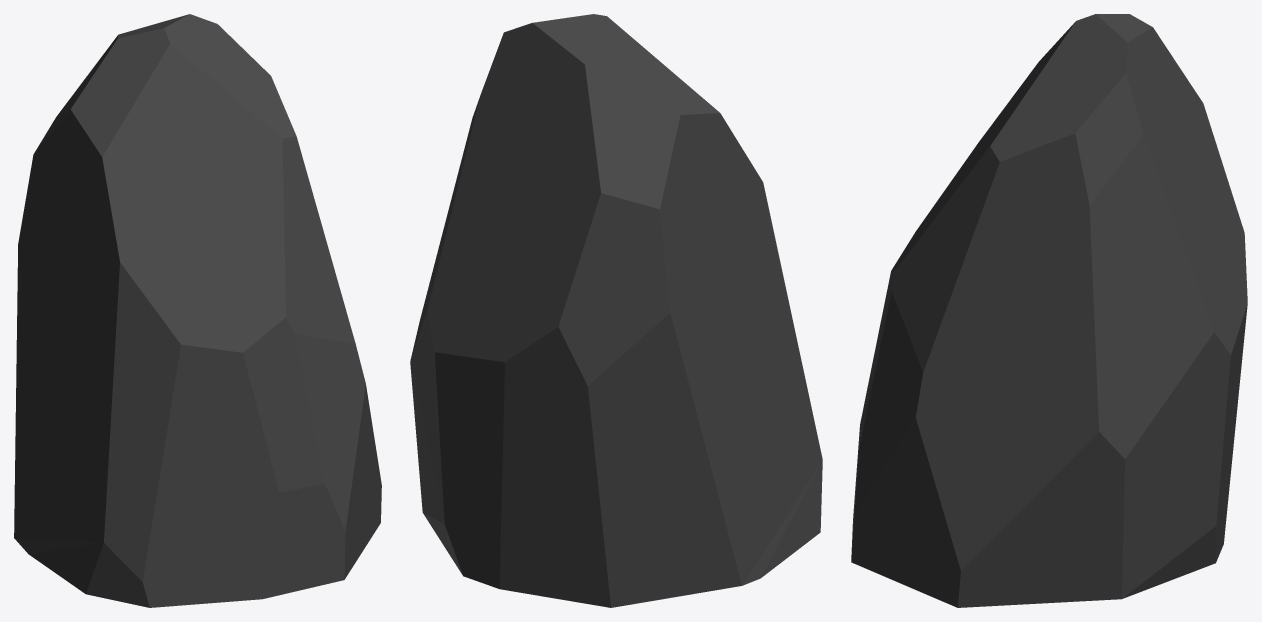
File: rock_1.FBX
3 renders of one model, left to right at view 1: azimuth 30°, elevation 25°; view 2: azimuth 150°, elevation 25°; view 3: azimuth 270°, elevation 25°, orthographic. The views are drawn at different scales.
Parts seen in each view (by area): view 1: rock_1; view 2: rock_1; view 3: rock_1.
Boxes of the visible parts, x1,y1,x2,y2 form: rock_1: (14,14,381,607); rock_1: (410,14,822,607); rock_1: (851,14,1247,607).
Size of the model in its own units: 2.42 by 3.75 by 2.61.
1 material, 1 textured.
